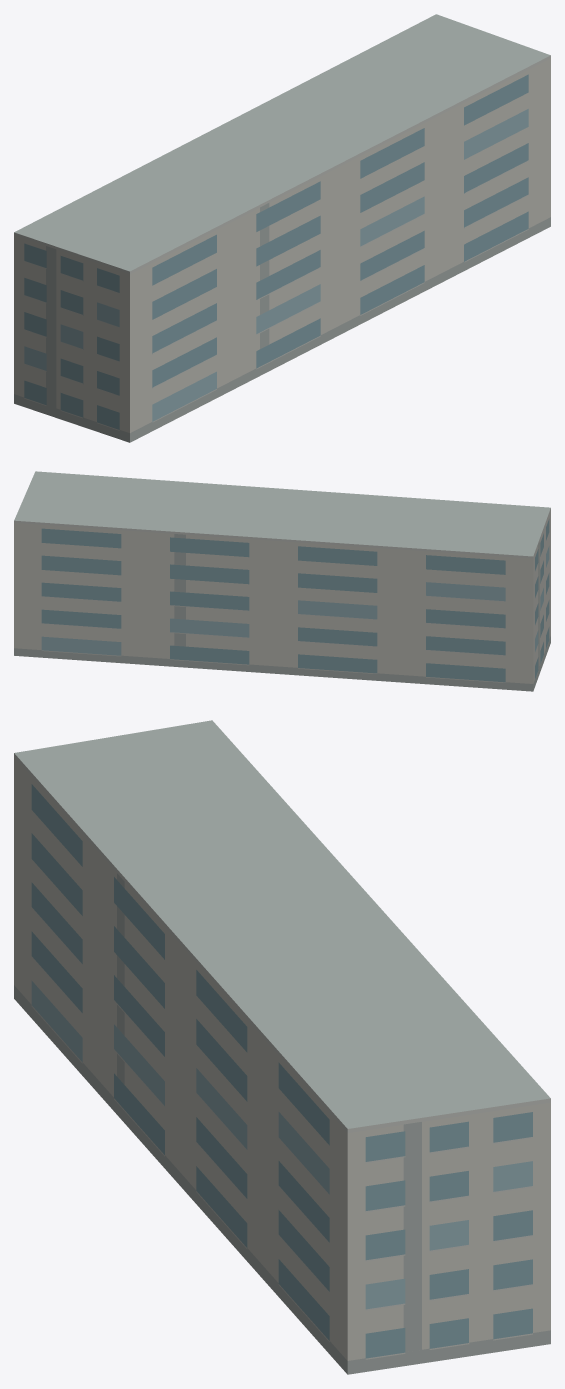
File: residential-4ff984ab-7267-4a5d-964c-de843b8f0d9b.glb
3 renders of one model, top to bottom at view 1: azimuth 30°, elevation 25°; view 2: azimuth 150°, elevation 25°; view 3: azimuth 270°, elevation 25°, orthographic. The views are drawn at different scales.
Parts seen in each view (by area): view 1: residential-4ff984ab-7267-4a5d-964c-de843b8f0d9b.tmp; view 2: residential-4ff984ab-7267-4a5d-964c-de843b8f0d9b.tmp; view 3: residential-4ff984ab-7267-4a5d-964c-de843b8f0d9b.tmp.
Boxes of the visible parts, x1,y1,x2,y2 form: residential-4ff984ab-7267-4a5d-964c-de843b8f0d9b.tmp: (14,14,550,442); residential-4ff984ab-7267-4a5d-964c-de843b8f0d9b.tmp: (14,471,550,691); residential-4ff984ab-7267-4a5d-964c-de843b8f0d9b.tmp: (14,720,550,1374).
Size of the model in its own units: 54.43 by 15.25 by 30.21.
